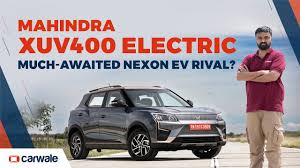XUV 400: (66, 84, 227, 164)
